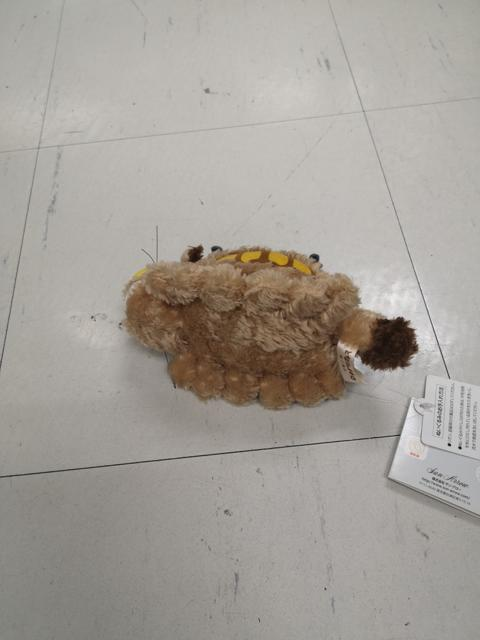nekobus: (110, 220, 420, 417)
